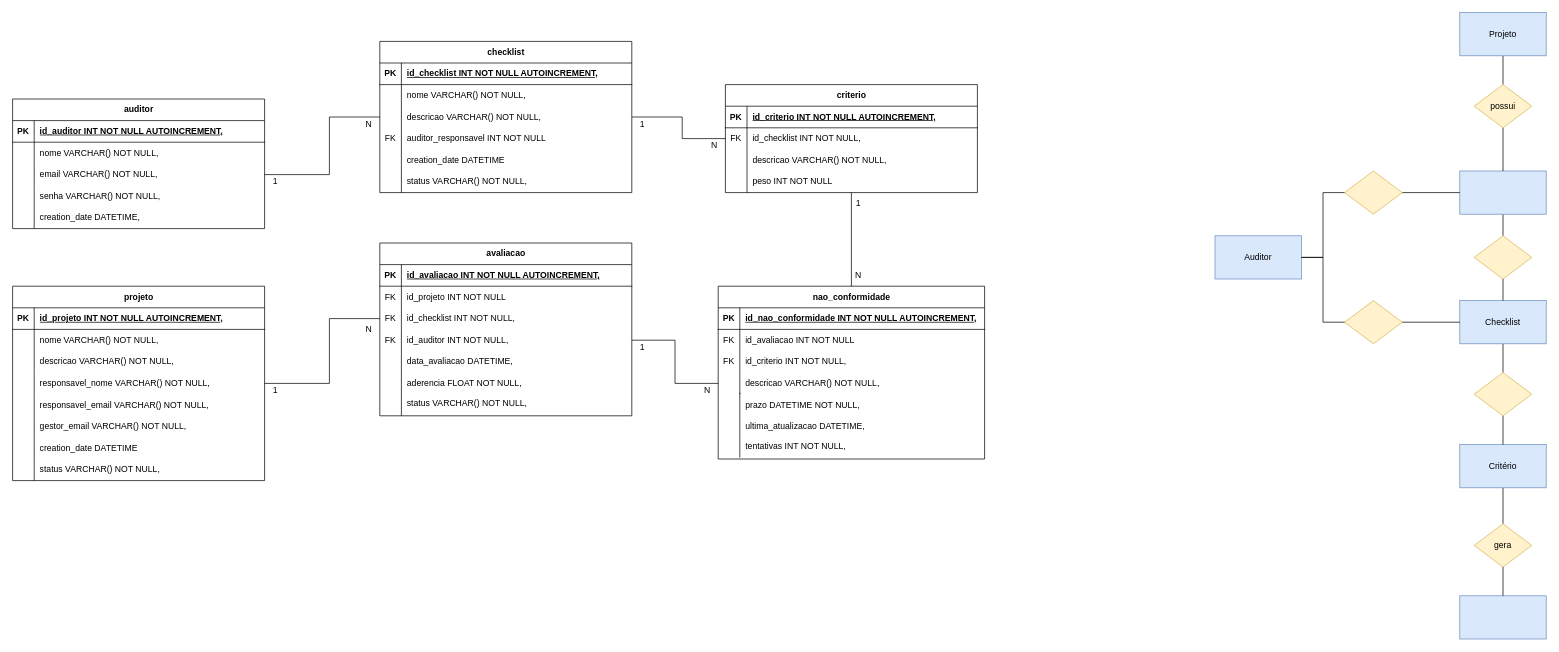
The diagram is 1559 pixels wide and 652 high, and some of its shapes have lost their labels. Here are the shapes that lost their labels. From the top down, the box of each, then its label:
(1344, 170, 1402, 214): realiza
(1459, 170, 1546, 214): Avaliação
(1473, 235, 1532, 279): usa
(1344, 300, 1402, 344): cria
(1473, 372, 1532, 416): contém
(1459, 595, 1546, 639): Não Conformidade
